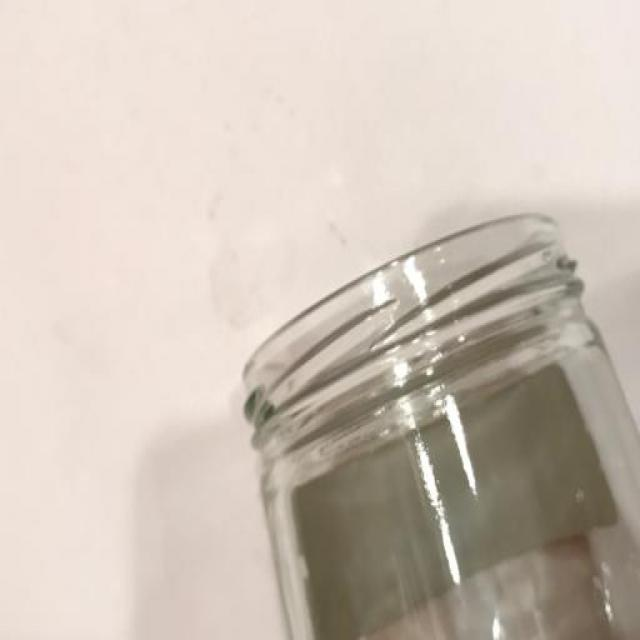glass: (211, 169, 640, 640)
